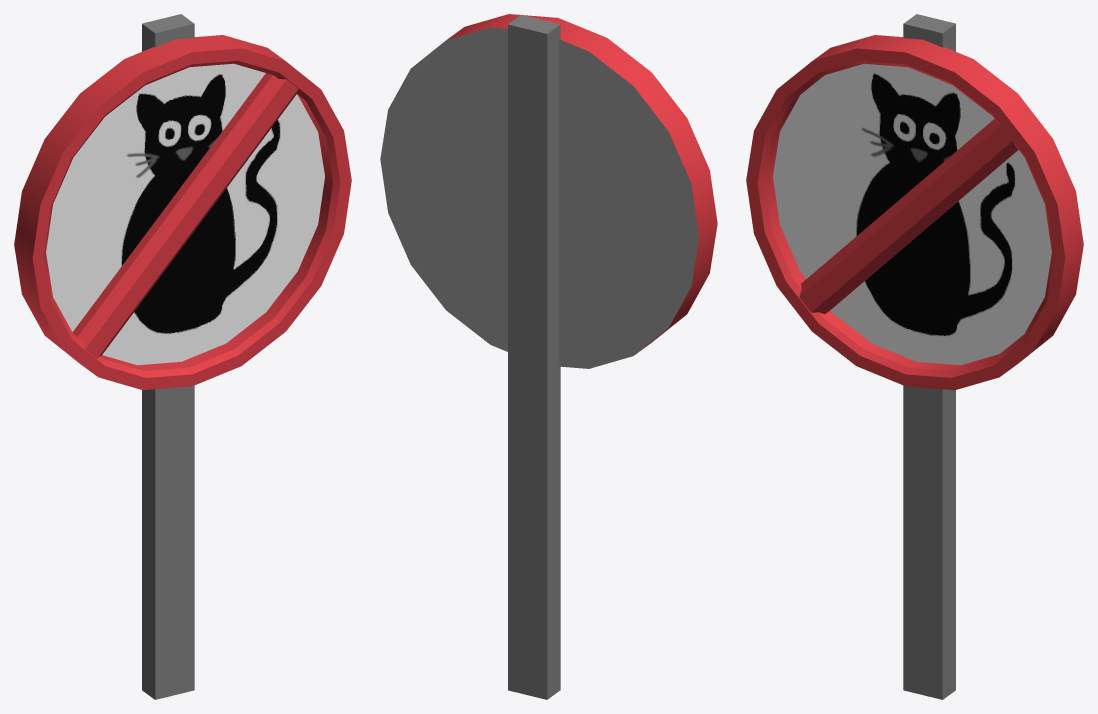
Rendered from nocats_sign.fbx.
3 views of the same model, side by side, from view 1: azimuth 30°, elevation 25°; view 2: azimuth 150°, elevation 25°; view 3: azimuth 330°, elevation 25° (orthographic).
Visible parts, largest first — view 1: pCube4; view 2: pCube4; view 3: pCube4.
Part boxes in pixels (x1,y1,x2,y2): pCube4: (14,14,351,699); pCube4: (380,14,717,699); pCube4: (746,14,1083,699).
Size of the model in its own units: 8.1 by 16.16 by 1.35.
Materials: 4 (1 with a texture image).
